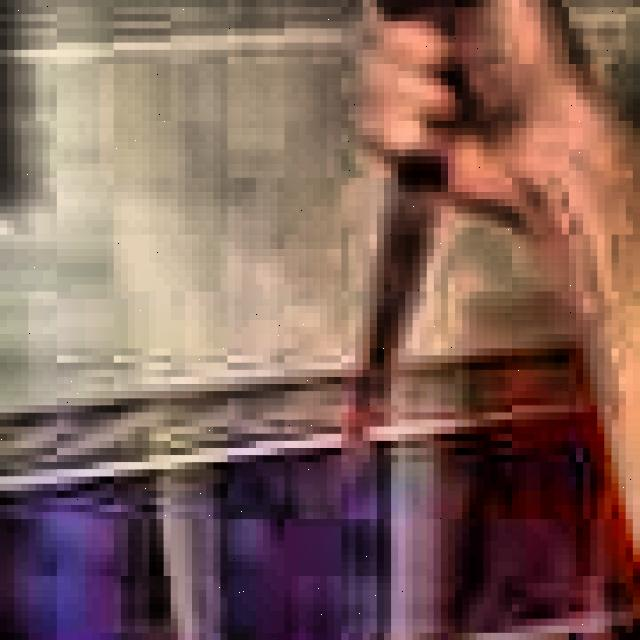knife: (334, 0, 476, 484)
